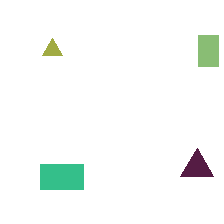rectangle: (40, 164, 83, 189), (198, 35, 218, 66)
triangle: (180, 148, 213, 176), (42, 38, 62, 55)
